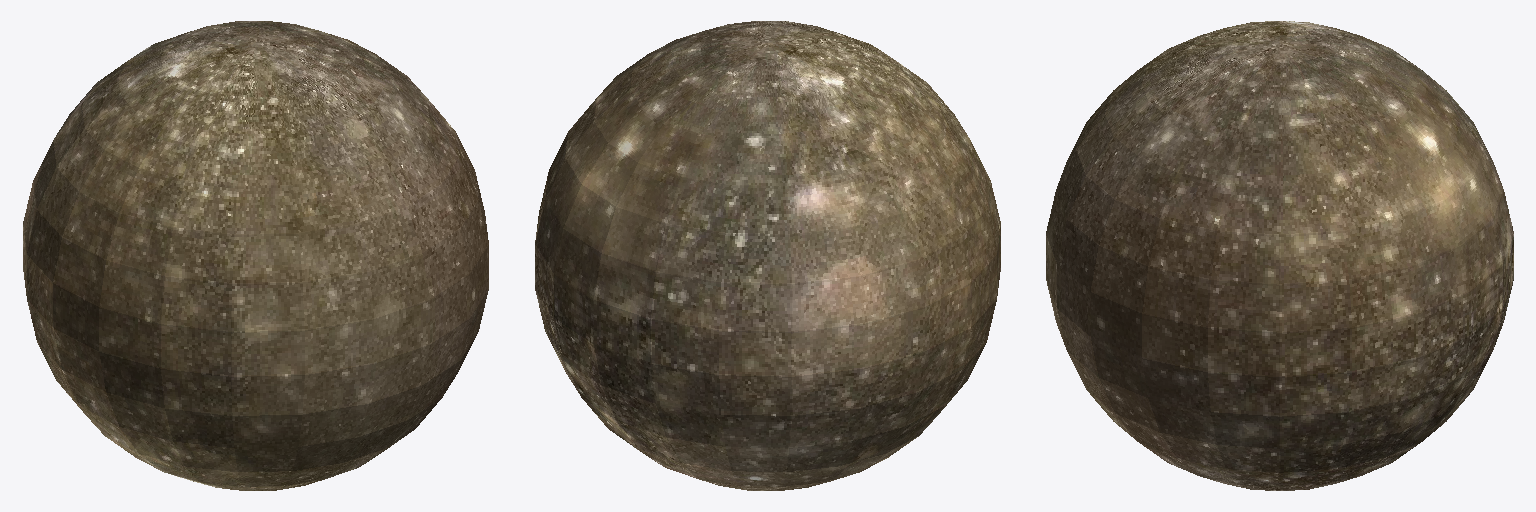
3 views of the same model, side by side, from view 1: azimuth 30°, elevation 25°; view 2: azimuth 150°, elevation 25°; view 3: azimuth 270°, elevation 25° (orthographic).
Bounding box in the file's own units: 1.99 × 2 × 1.99.
1 materials, 1 textured.